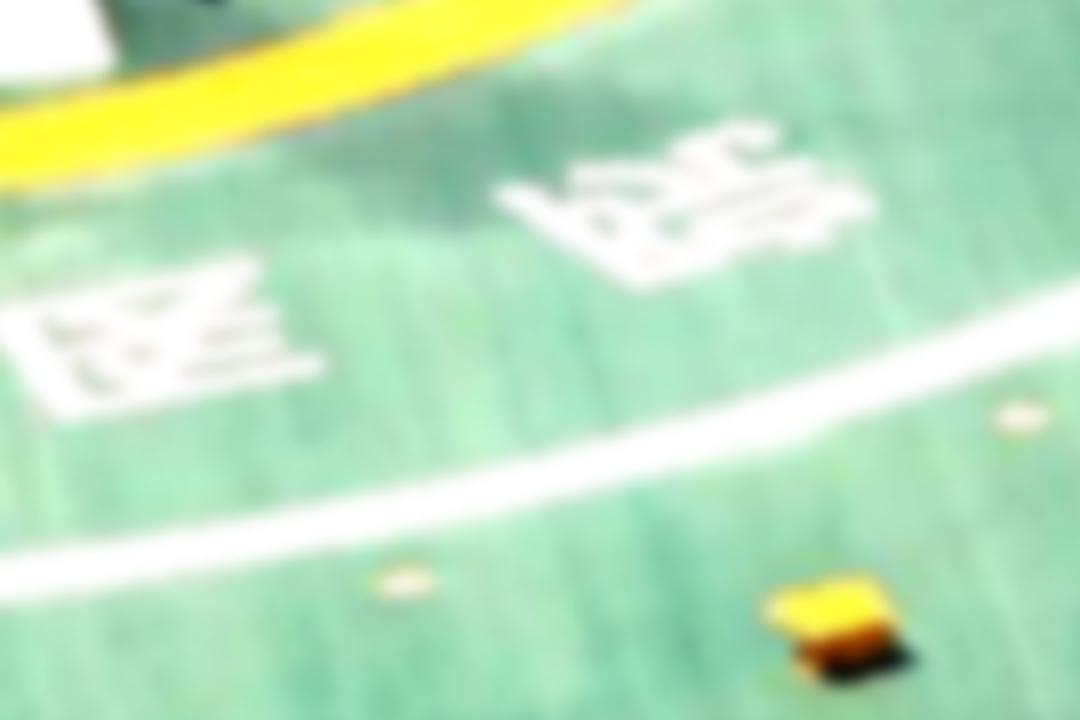Apron: (1, 1, 635, 202)
